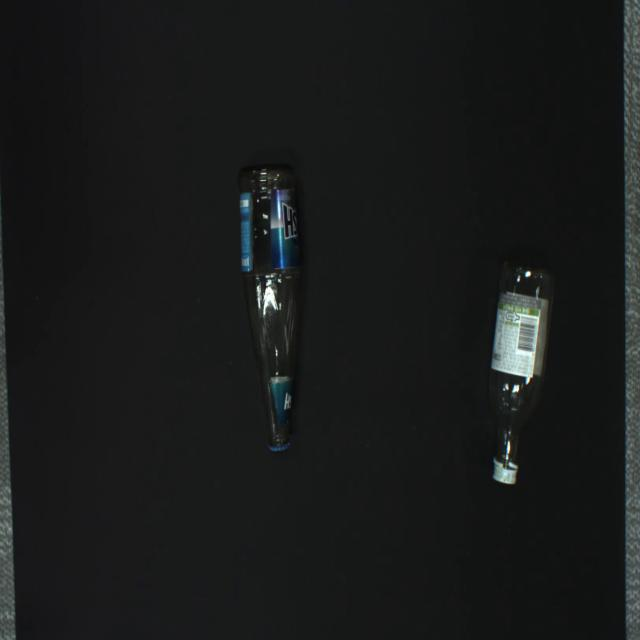beer-bottle: (238, 164, 301, 453)
soju-bottle: (489, 262, 554, 485)
